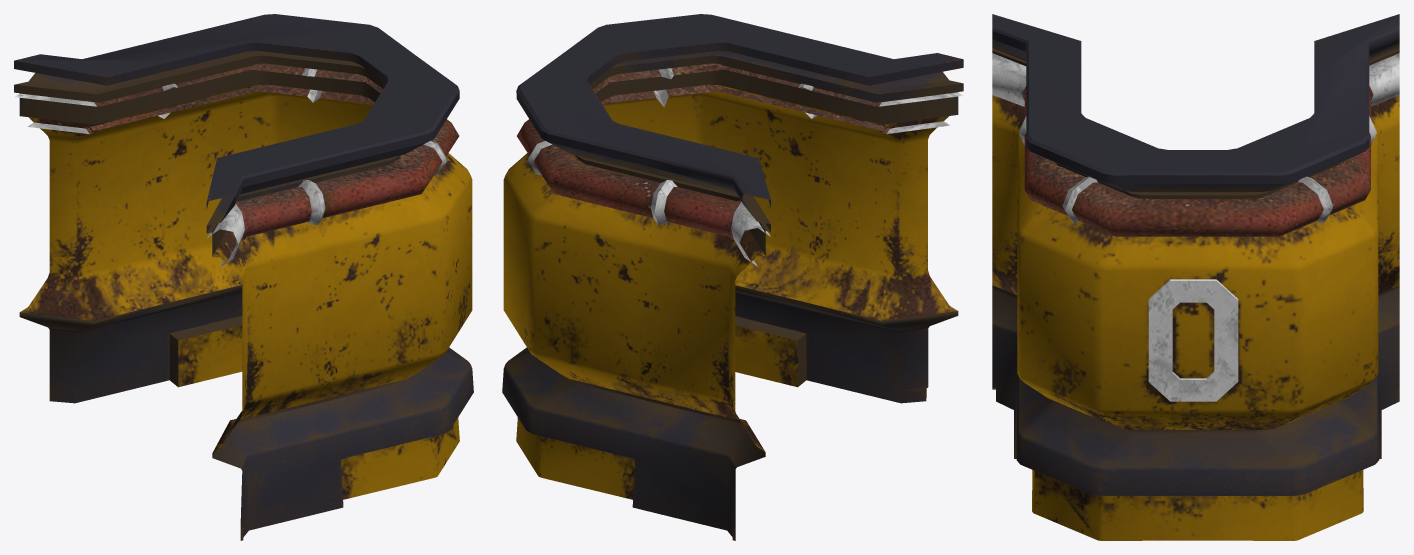
Rendered from Uwallfinal.glb.
The picture shows the model from 3 angles, left to right: view 1: azimuth 30°, elevation 25°; view 2: azimuth 150°, elevation 25°; view 3: azimuth 270°, elevation 25°; orthographic projection. The views are drawn at different scales.
Parts seen in each view (by area): view 1: Cube.007; view 2: Cube.007; view 3: Cube.007.
Part boxes in pixels (left/top/right/bottom): Cube.007: left=14, top=14, right=473, bottom=540; Cube.007: left=502, top=14, right=963, bottom=540; Cube.007: left=992, top=14, right=1399, bottom=540.
Size of the model in its own units: 3.83 by 4.01 by 4.
Materials: 4 (4 with a texture image).
